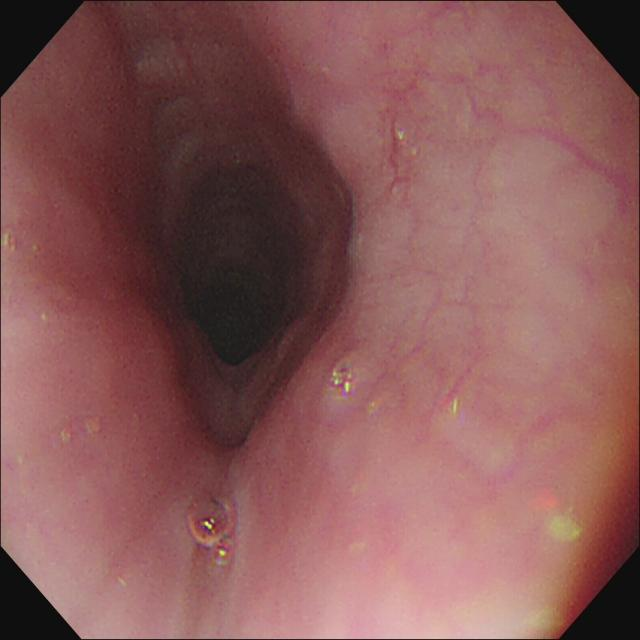E: (148, 143, 321, 375)
T: (189, 494, 238, 567)
